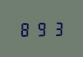eight: (18, 20, 32, 37)
nine: (34, 20, 48, 36)
three: (49, 19, 63, 36)
